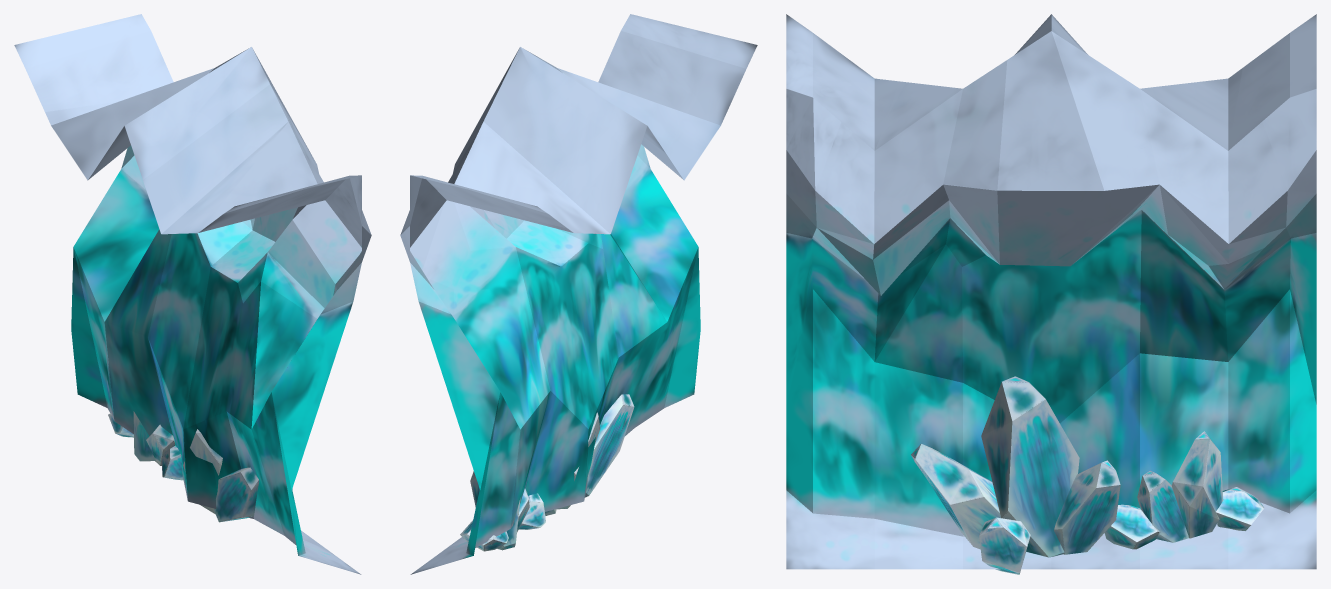
File: cluster-ice-B.fbx
The picture shows the model from 3 angles, left to right: view 1: azimuth 30°, elevation 25°; view 2: azimuth 150°, elevation 25°; view 3: azimuth 270°, elevation 25°; orthographic projection. The views are drawn at different scales.
Parts seen in each view (by area): view 1: wall_ice; view 2: wall_ice; view 3: wall_ice.
Boxes of the visible parts, x1,y1,x2,y2 form: wall_ice: (14,14,371,574); wall_ice: (400,14,757,574); wall_ice: (786,14,1316,574).
Size of the model in its own units: 134 by 343 by 300.
